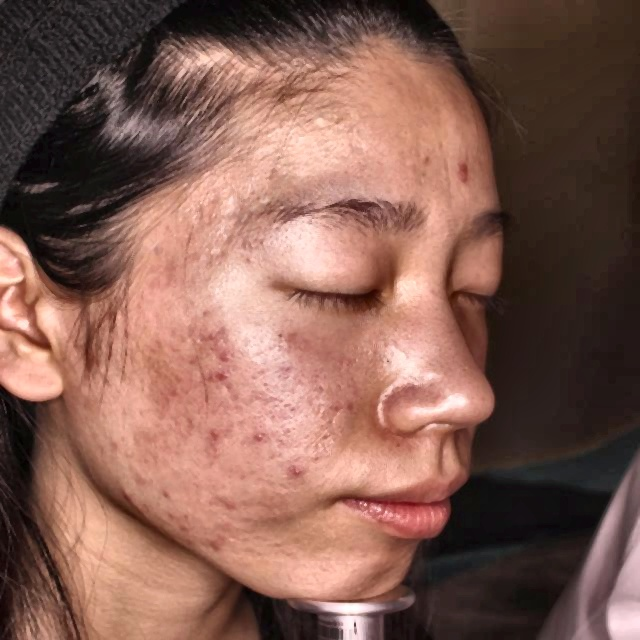pustule: (283, 464, 320, 491), (194, 416, 227, 446), (206, 354, 238, 384), (210, 495, 240, 522), (240, 425, 275, 448), (451, 156, 478, 182), (156, 482, 180, 505), (207, 535, 232, 557), (122, 492, 147, 506), (202, 326, 224, 336)
